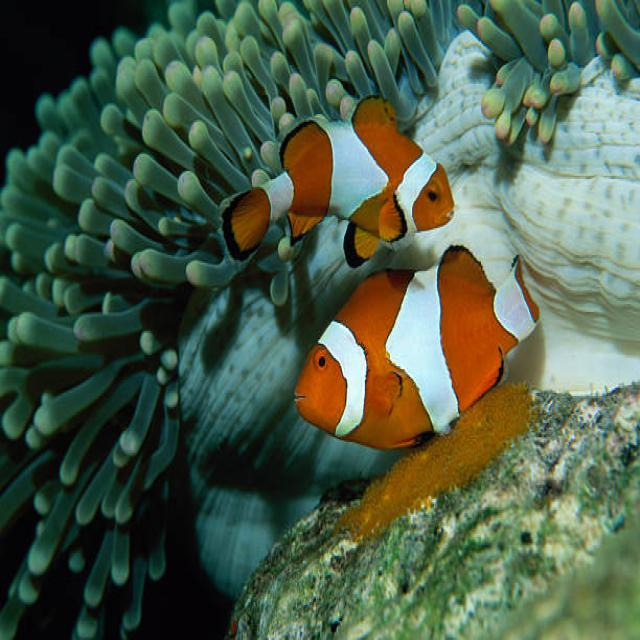ClownFish: (295, 244, 541, 450), (221, 94, 454, 262)
